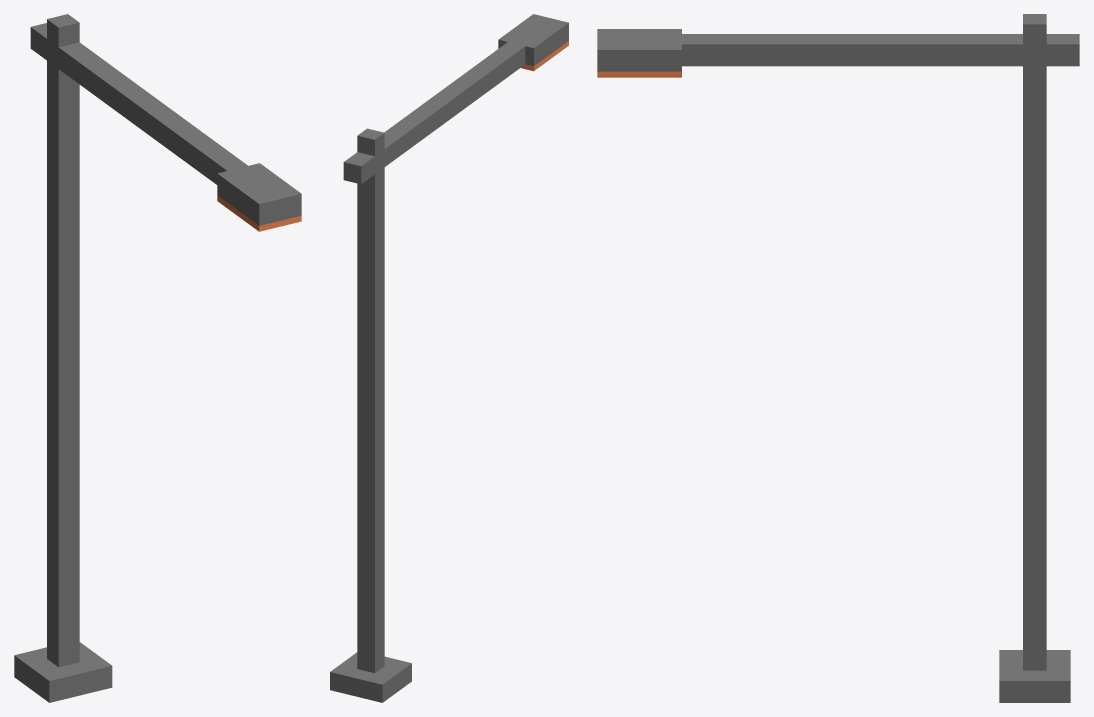
Rendered from Light.FBX.
3 views of the same model, side by side, from view 1: azimuth 30°, elevation 25°; view 2: azimuth 150°, elevation 25°; view 3: azimuth 270°, elevation 25° (orthographic). The views are drawn at different scales.
Visible parts, largest first — view 1: Box001; view 2: Box001; view 3: Box001.
Boxes of the visible parts, <box> form: Box001: <box>14,14,301,702</box>; Box001: <box>330,14,568,702</box>; Box001: <box>597,14,1079,702</box>.
Bounding box in the file's own units: 9.71 × 97.62 × 63.89.
